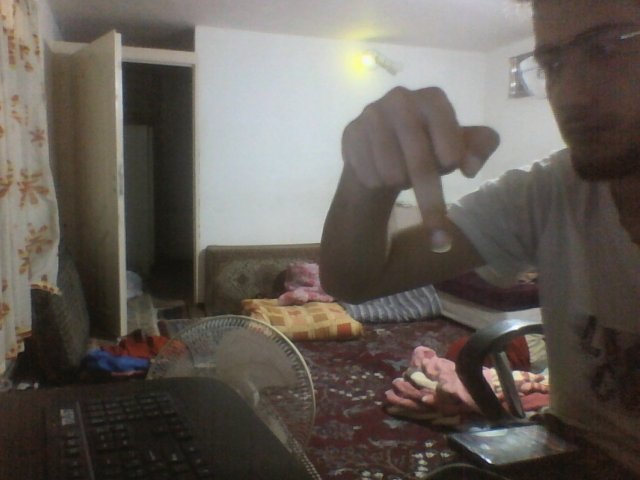fuck: (343, 87, 503, 254)
sorat: (528, 2, 639, 177)
